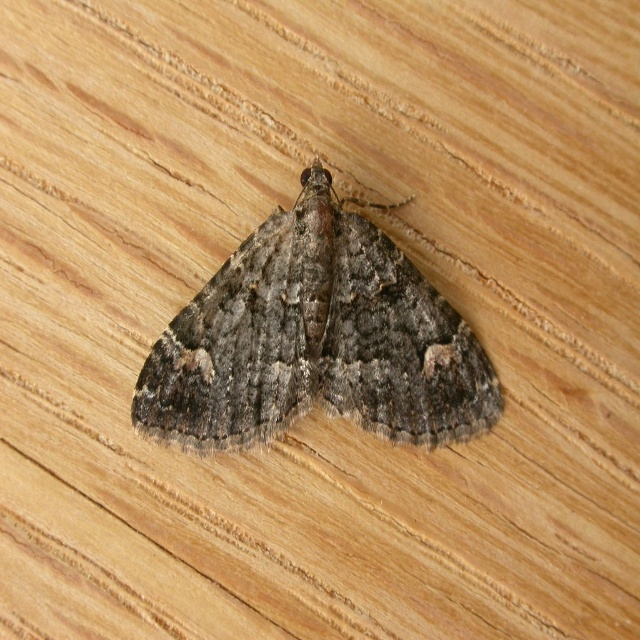Moths and butterflies: (126, 154, 505, 460)
